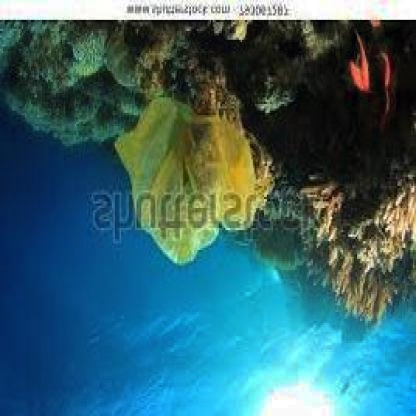pbag: (113, 95, 258, 266)
